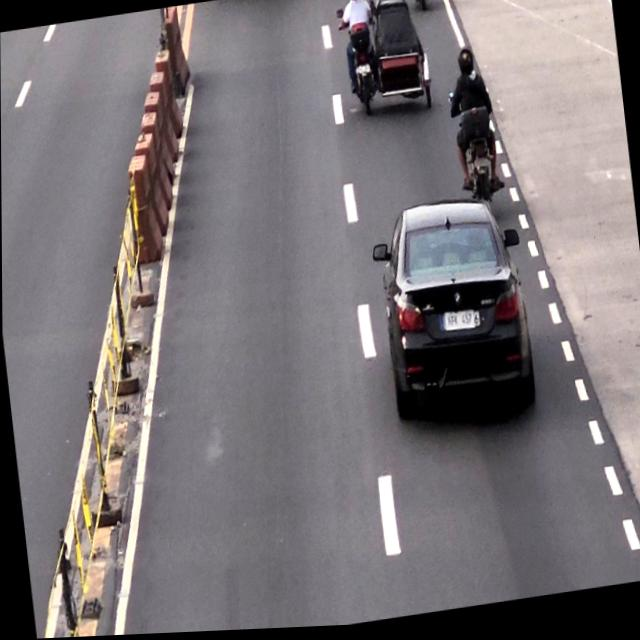Car: (376, 202, 534, 419)
License-Plate: (443, 308, 477, 339)
Motorcycle: (446, 50, 502, 211)
Tricycle: (333, 0, 427, 117)
